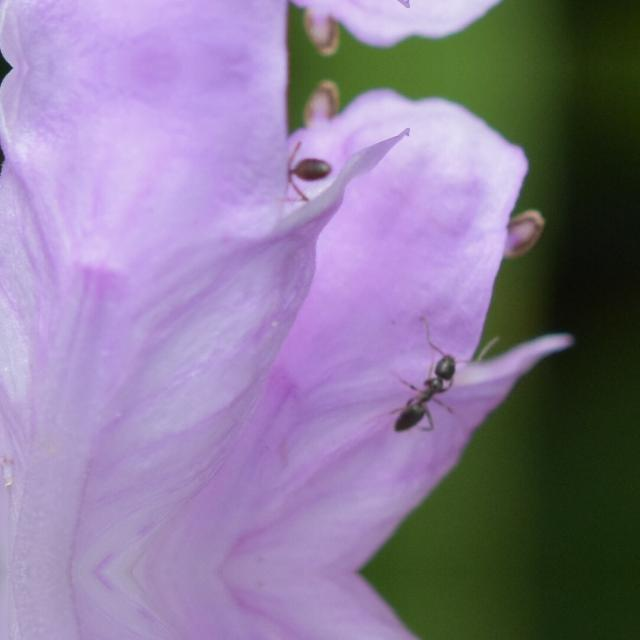Tapinoma: (376, 336, 478, 442), (254, 144, 332, 204)
